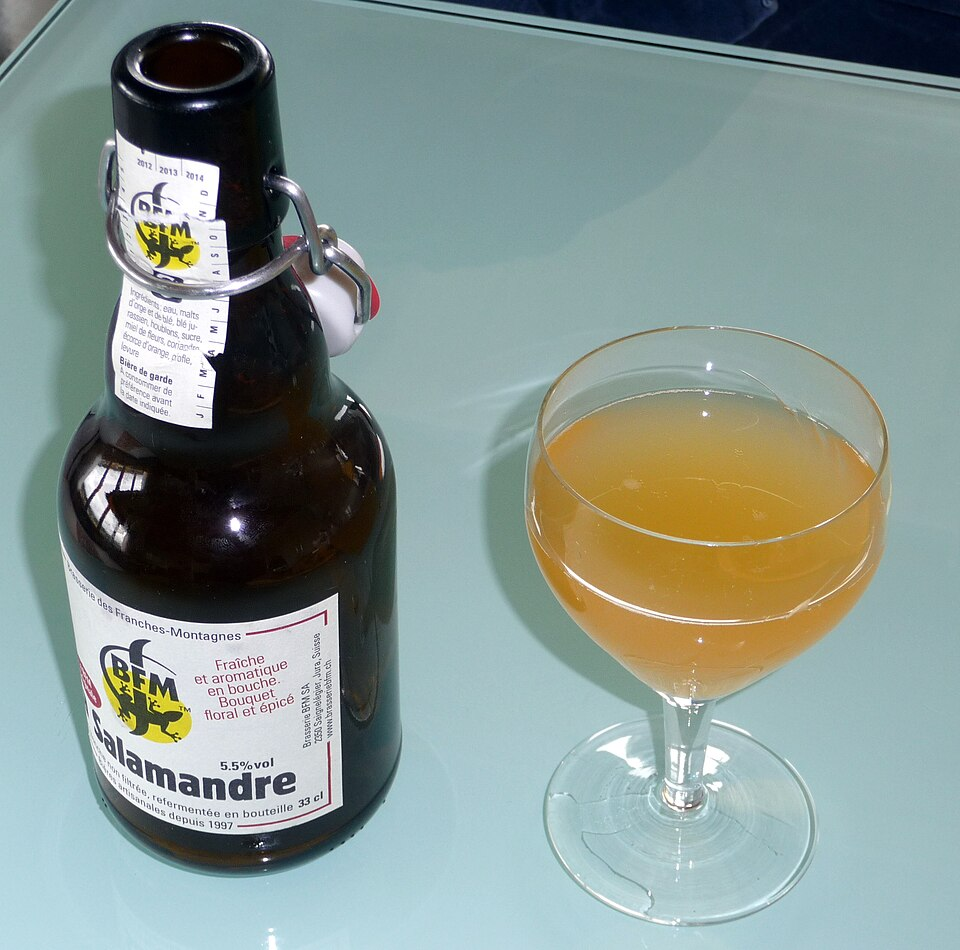beer-bottle: (40, 3, 417, 893)
